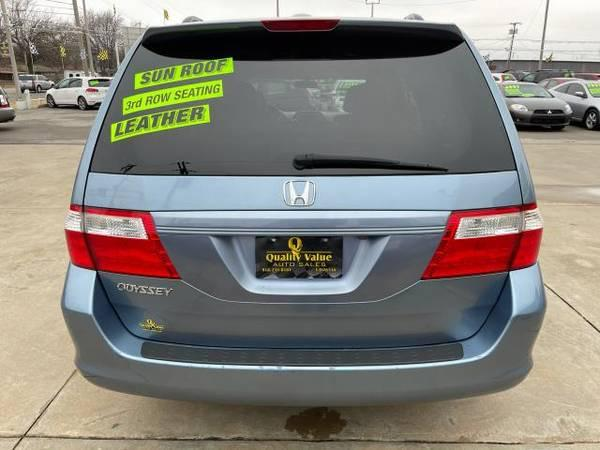Left_Taillight: (64, 205, 180, 279)
Rear_Bumper: (59, 260, 546, 406)
Rear_Windshield: (78, 22, 529, 178)
Right_Taillight: (424, 204, 546, 276)
Tailgate: (72, 169, 538, 347)
